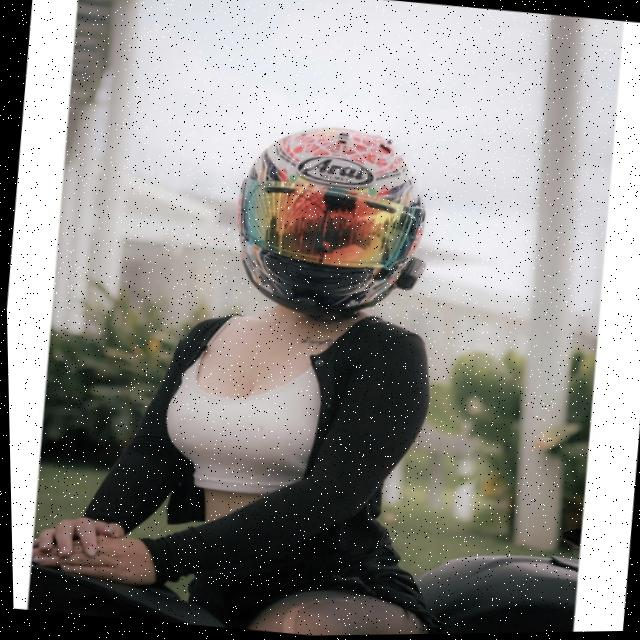helmet: (213, 111, 439, 337)
